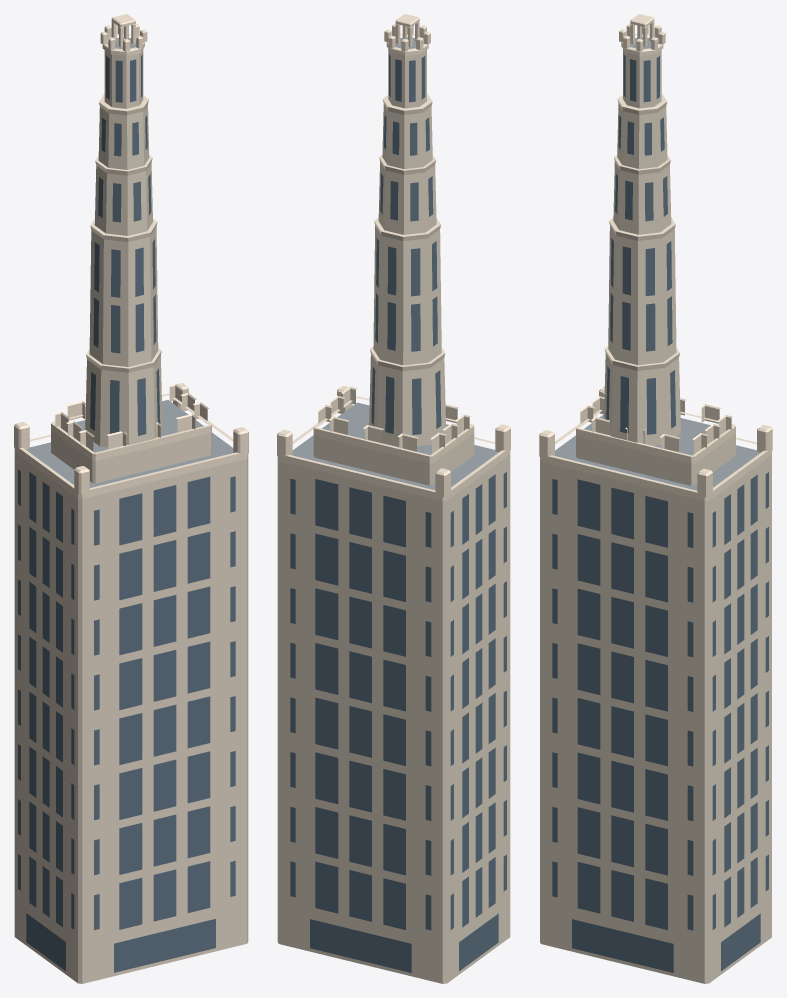
The model's file is chi-mather-tower.glb.
3 views of the same model, side by side, from view 1: azimuth 30°, elevation 25°; view 2: azimuth 150°, elevation 25°; view 3: azimuth 330°, elevation 25° (orthographic).
Parts seen in each view (by area): view 1: Mather Tower; view 2: Mather Tower; view 3: Mather Tower.
Part boxes in pixels (x1,y1,x2,y2): Mather Tower: [14, 14, 248, 983]; Mather Tower: [277, 14, 510, 983]; Mather Tower: [539, 14, 772, 983].
Bounding box in the file's own units: 30.48 × 158 × 20.68.
